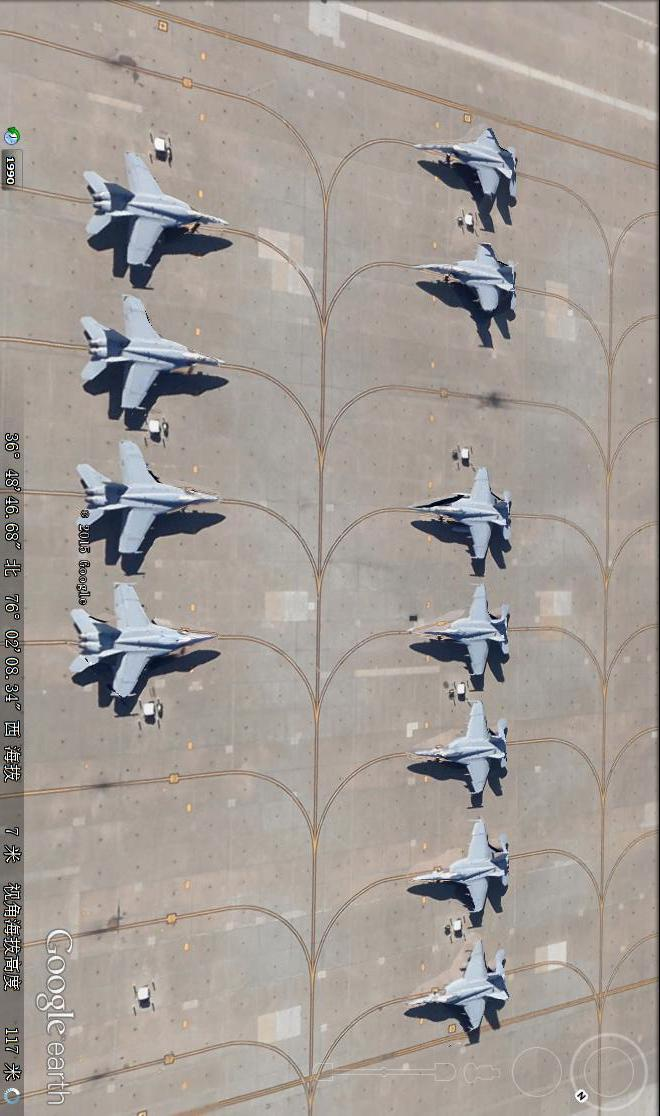F/A-18: (79, 297, 235, 420), (64, 586, 214, 709), (77, 152, 227, 272), (77, 445, 226, 556), (398, 936, 512, 1040), (405, 822, 516, 918), (411, 585, 522, 680), (410, 468, 517, 562), (406, 703, 513, 796), (410, 125, 524, 204), (417, 243, 521, 317)
